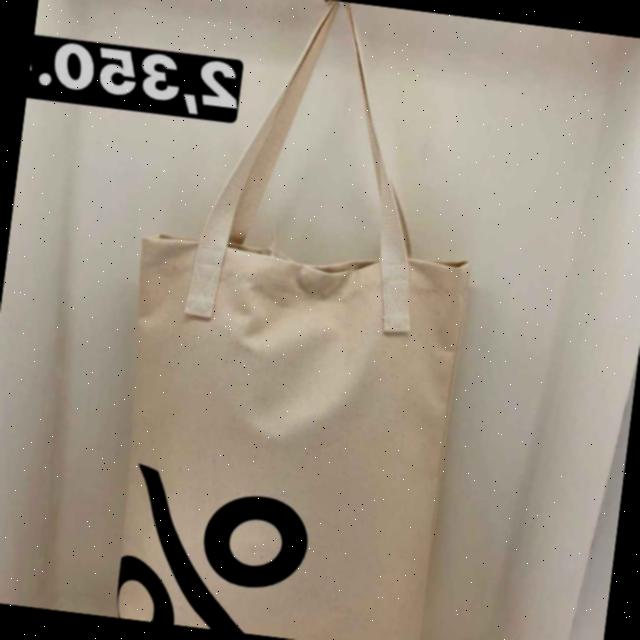Handbag: (92, 169, 492, 640)
